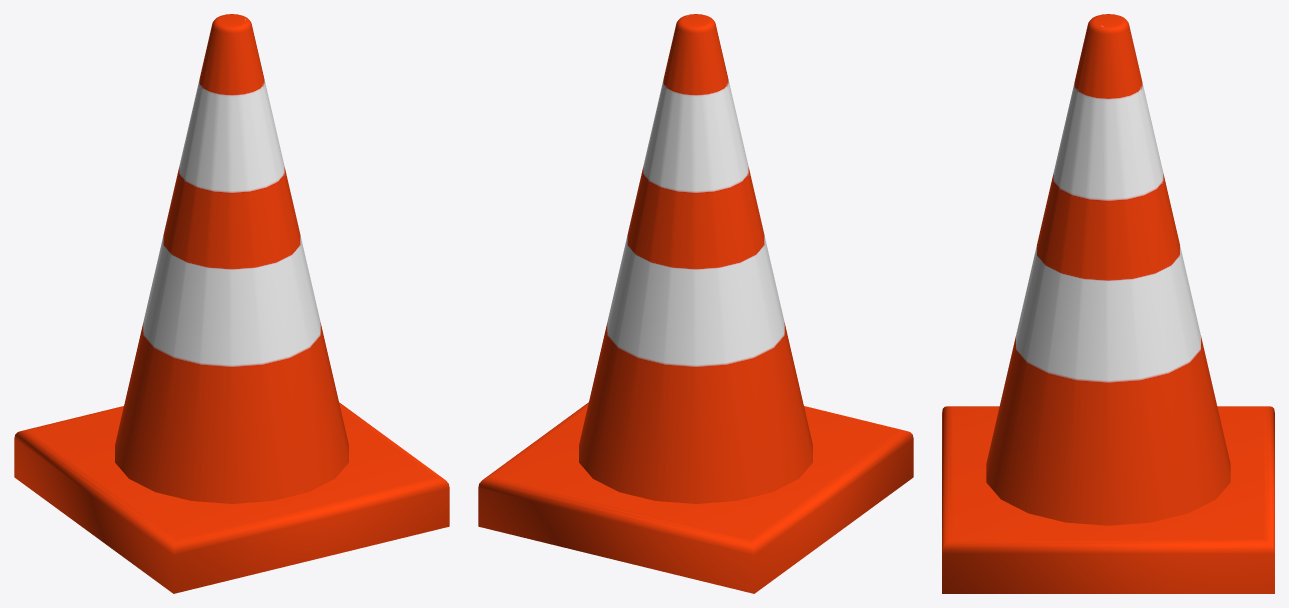
Rendered from vlc.fbx.
3 views of the same model, side by side, from view 1: azimuth 30°, elevation 25°; view 2: azimuth 150°, elevation 25°; view 3: azimuth 270°, elevation 25° (orthographic). The views are drawn at different scales.
Visible parts, largest first — view 1: Object001; view 2: Object001; view 3: Object001.
Part boxes in pixels (left/top/right/bottom): Object001: left=14, top=14, right=449, bottom=593; Object001: left=478, top=14, right=913, bottom=593; Object001: left=942, top=14, right=1274, bottom=593.
Bounding box in the file's own units: 60 × 100 × 60.
1 material, 1 textured.
